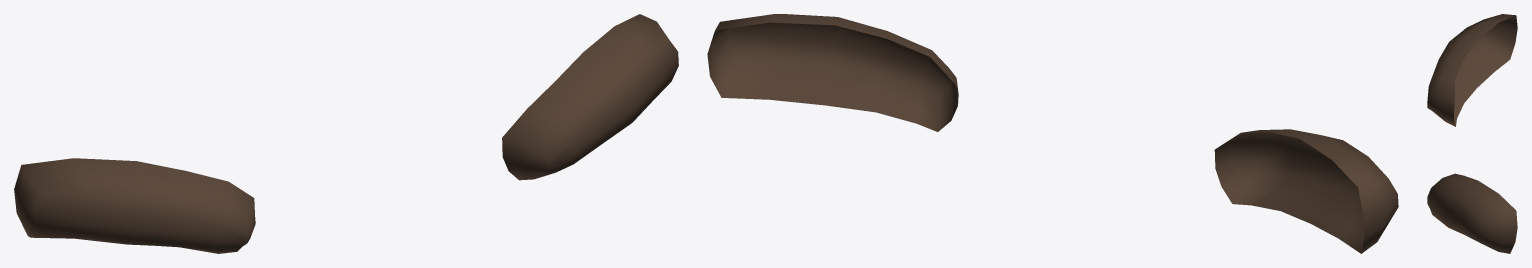
The model's file is Eyebrow01.fbx.
The picture shows the model from 3 angles, left to right: view 1: azimuth 30°, elevation 25°; view 2: azimuth 150°, elevation 25°; view 3: azimuth 270°, elevation 25°; orthographic projection. The views are drawn at different scales.
Visible parts, largest first — view 1: Eyebrow01; view 2: Eyebrow01; view 3: Eyebrow01.
Boxes of the visible parts, x1,y1,x2,y2 form: Eyebrow01: [14, 14, 678, 253]; Eyebrow01: [707, 14, 1398, 253]; Eyebrow01: [1427, 14, 1517, 253].
Bounding box in the file's own units: 40.58 × 5.91 × 7.61.
